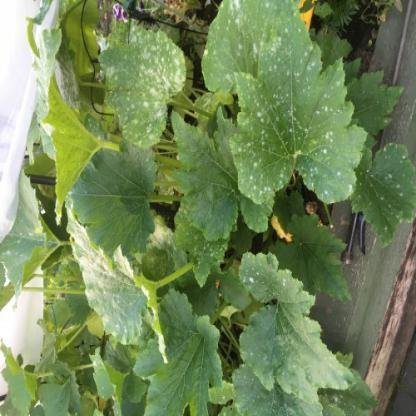Squash Powdery mildew leaf: (228, 9, 364, 209), (230, 248, 352, 398), (98, 34, 186, 143)
